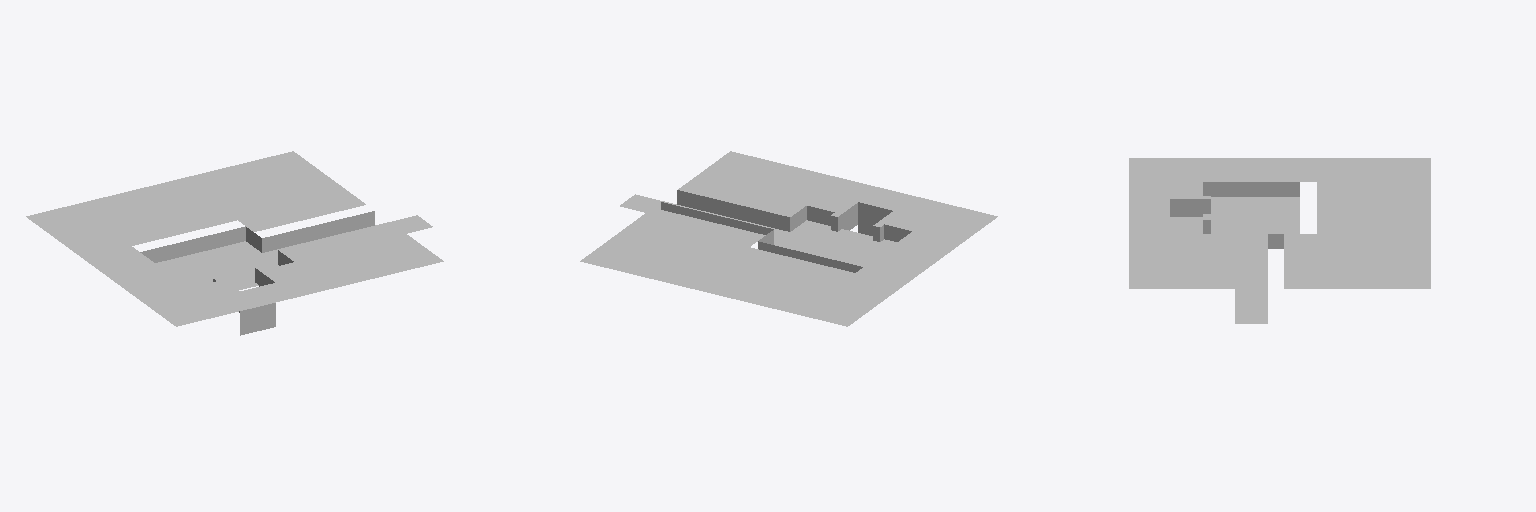
Rendered from lvl_shipElevator1.obj.
The picture shows the model from 3 angles: view 1: azimuth 30°, elevation 25°; view 2: azimuth 150°, elevation 25°; view 3: azimuth 270°, elevation 25°; orthographic projection.
Parts seen in each view (by area): view 1: Default; view 2: Default; view 3: Default.
Boxes of the visible parts, x1,y1,x2,y2 form: Default: [26, 151, 443, 335]; Default: [580, 151, 997, 326]; Default: [1129, 158, 1430, 323].
Size of the model in its own units: 44 by 6 by 37.